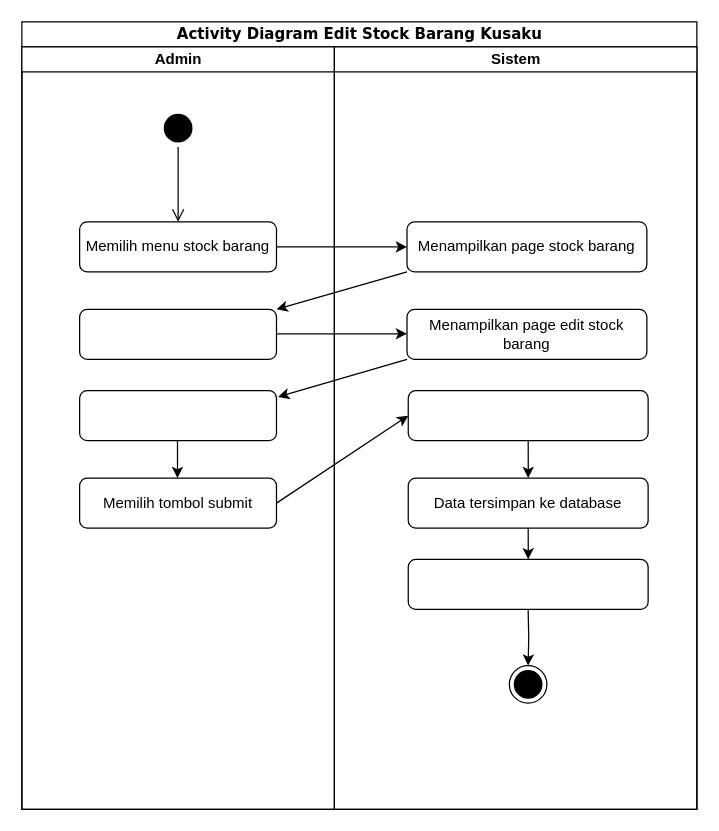
Image size: 719x831. Some labels were removed from this diagram. The centre of each missing label's shape, as x and y in pixels:
"Data Tersimpan" belongs at pixel 527 415.
"Memasukan data barang" belongs at pixel 177 415.
"Memilih action edit" belongs at pixel 177 333.
"Menampilkan semua data stock barang" belongs at pixel 527 583.
